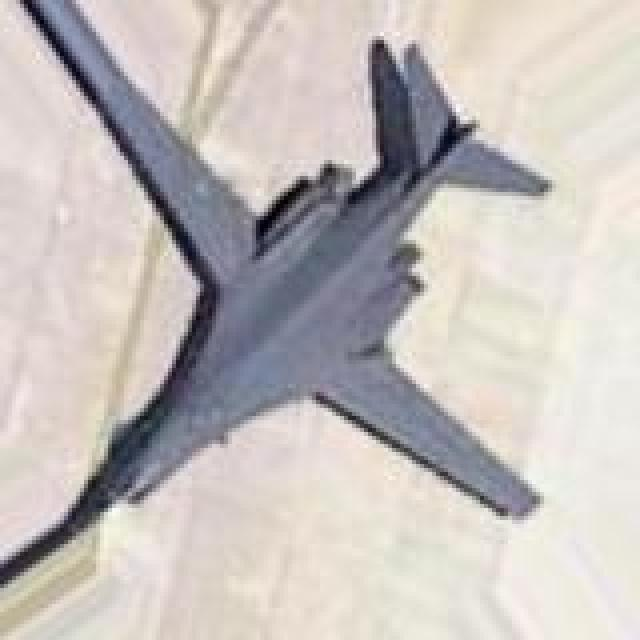B-1_TopDown: (0, 0, 552, 604)
